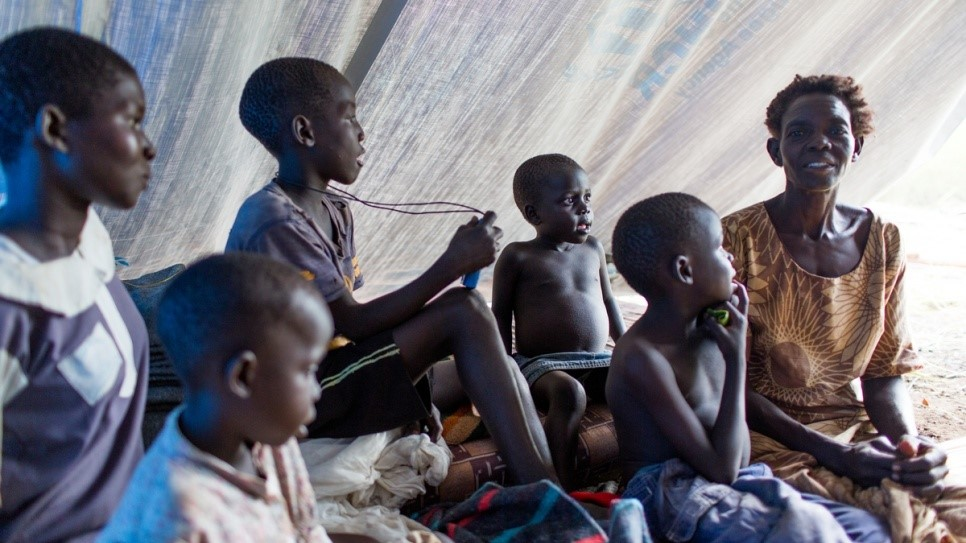face_no_mask: (157, 254, 334, 446), (4, 27, 157, 210), (238, 59, 368, 186), (612, 193, 738, 314), (768, 77, 862, 192), (512, 152, 593, 246)
